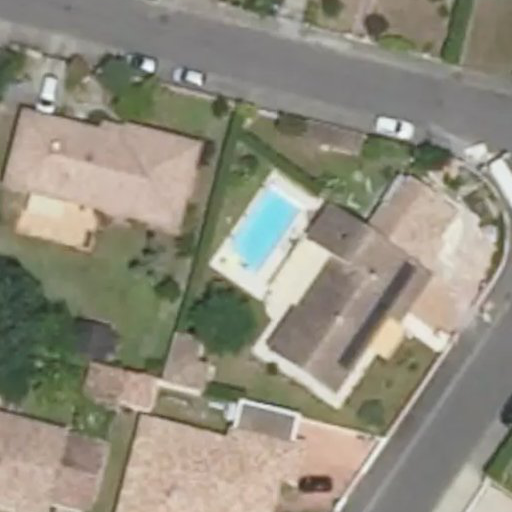pool: (230, 189, 301, 270)
